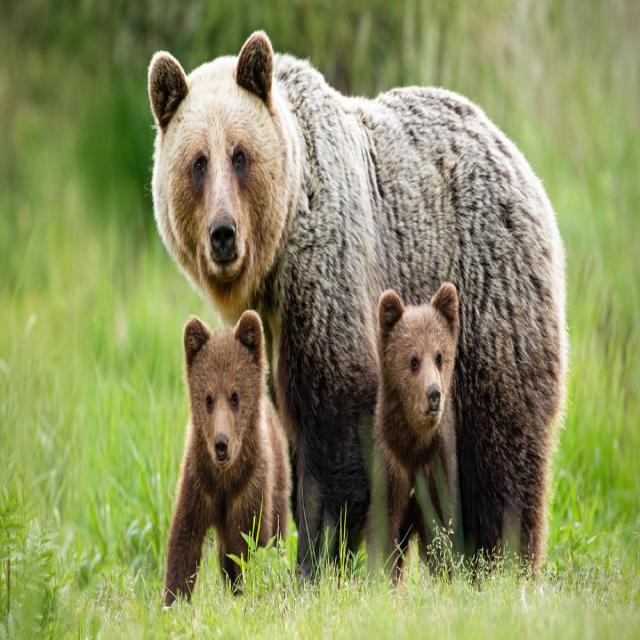Bear: (146, 31, 569, 583), (163, 311, 293, 607), (372, 282, 461, 585)
